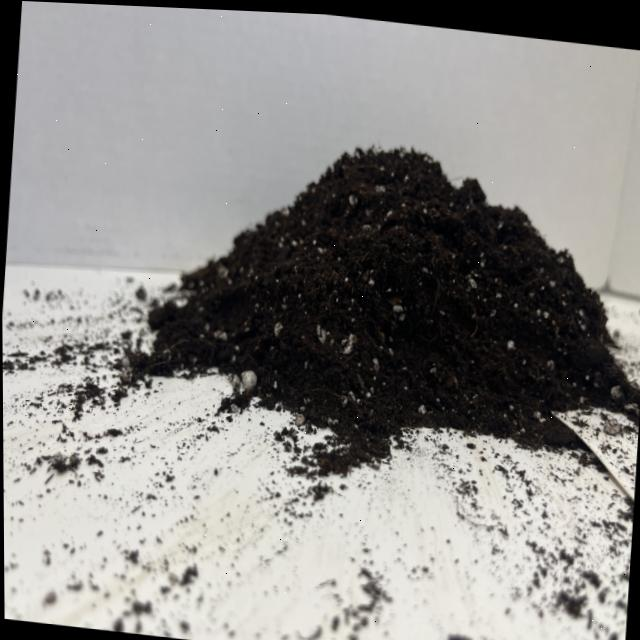soil: (116, 111, 640, 502)
